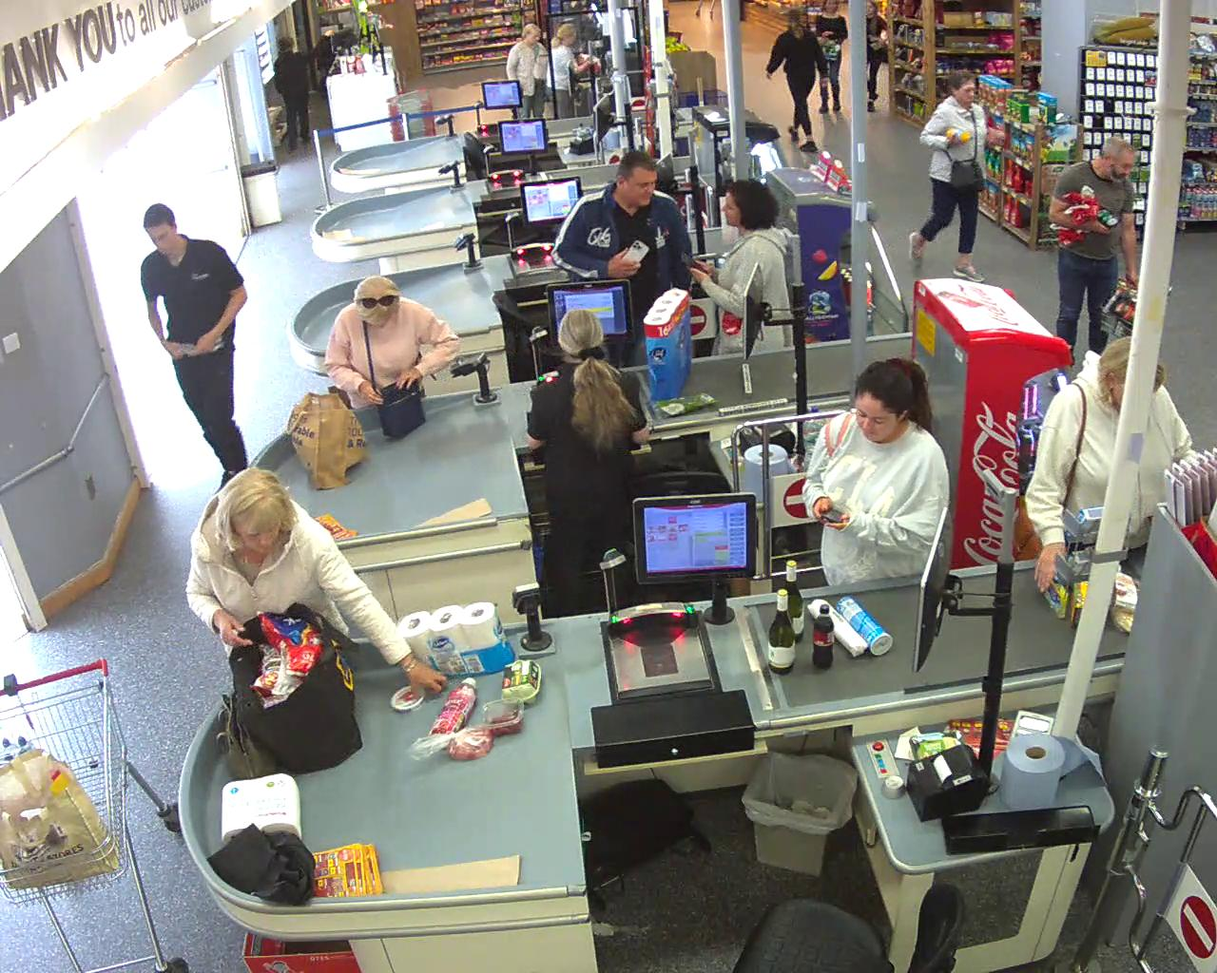backpack-or-handbag: (951, 160, 984, 195)
carrying-item: (1050, 190, 1116, 252), (948, 126, 974, 149)
filled-basket: (1101, 272, 1172, 343)
occupied-checkout-counter: (451, 277, 657, 551)
person: (1053, 136, 1138, 368), (910, 70, 987, 283)
person-with-backpack-handbag-and-carrying-item-s-: (910, 69, 987, 284)
person-with-basket-trolly-and-carrying-item: (1053, 136, 1172, 370)
vacant-checkout-counter: (511, 490, 860, 973), (454, 176, 588, 318), (439, 117, 553, 232), (436, 79, 528, 144)
